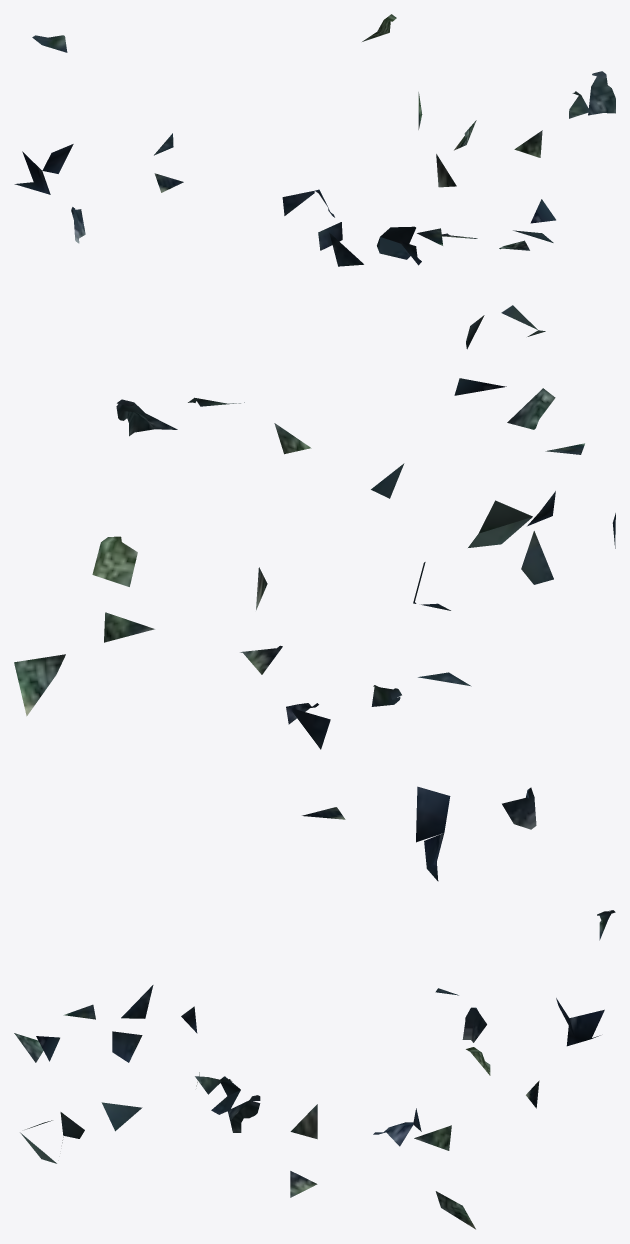
3 views of the same model, one above another, from view 1: azimuth 30°, elevation 25°; view 2: azimuth 150°, elevation 25°; view 3: azimuth 270°, elevation 25° (orthographic). The views are drawn at different scales.
Parts seen in each view (by area): view 1: 30436272704370414410_1; view 2: 30436272704370414410_1; view 3: 30436272704370414410_1.
Part boxes in pixels (left/top/right/bottom): 30436272704370414410_1: left=14, top=14, right=615, bottom=349; 30436272704370414410_1: left=14, top=378, right=615, bottom=881; 30436272704370414410_1: left=14, top=910, right=615, bottom=1229.
Size of the model in its own units: 27.32 by 9.4 by 33.93.
Materials: 1 (1 with a texture image).
